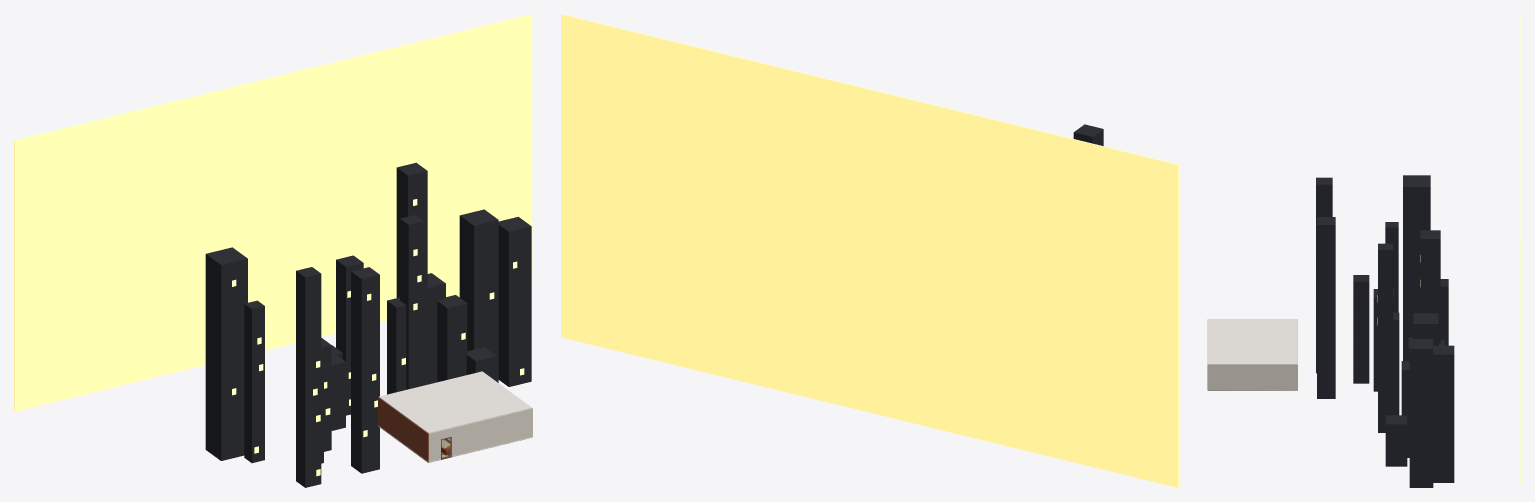
File: int_suite_family.glb
3 views of the same model, side by side, from view 1: azimuth 30°, elevation 25°; view 2: azimuth 150°, elevation 25°; view 3: azimuth 270°, elevation 25° (orthographic). The views are drawn at different scales.
Visible parts, largest first — view 1: VIEW_city, ROOM; view 2: VIEW_city; view 3: VIEW_city, ROOM.
Part boxes in pixels (box(x1,y1,x2,y2)): VIEW_city: box(14, 14, 532, 487); ROOM: box(378, 371, 532, 462); VIEW_city: box(561, 14, 1178, 487); VIEW_city: box(1315, 14, 1520, 487); ROOM: box(1207, 319, 1297, 390).
Bounding box in the file's own units: 60 × 34 × 35.14.
Materials: 51 (15 with a texture image).
